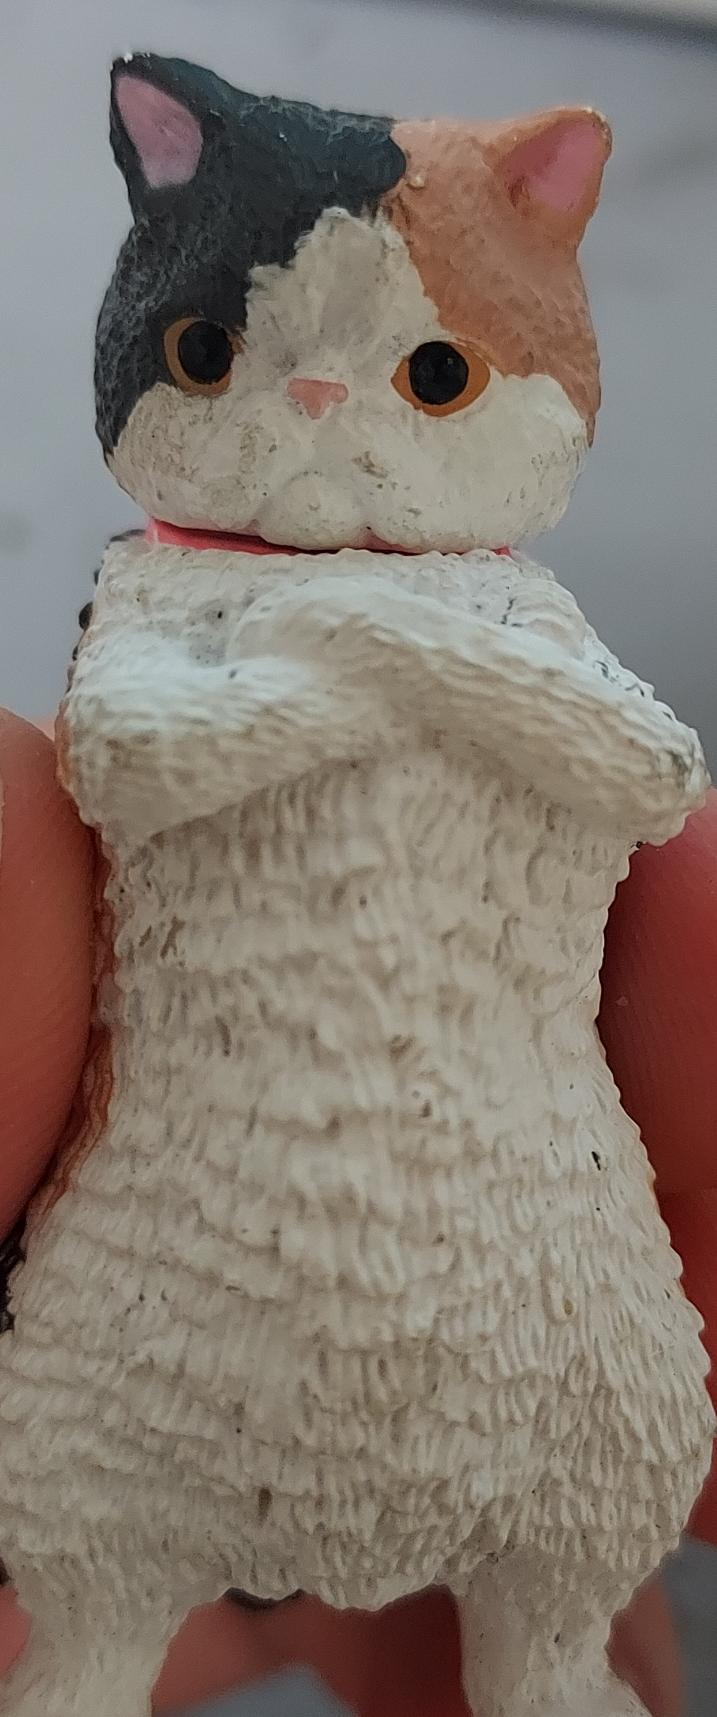cat: (0, 1, 717, 1717)
